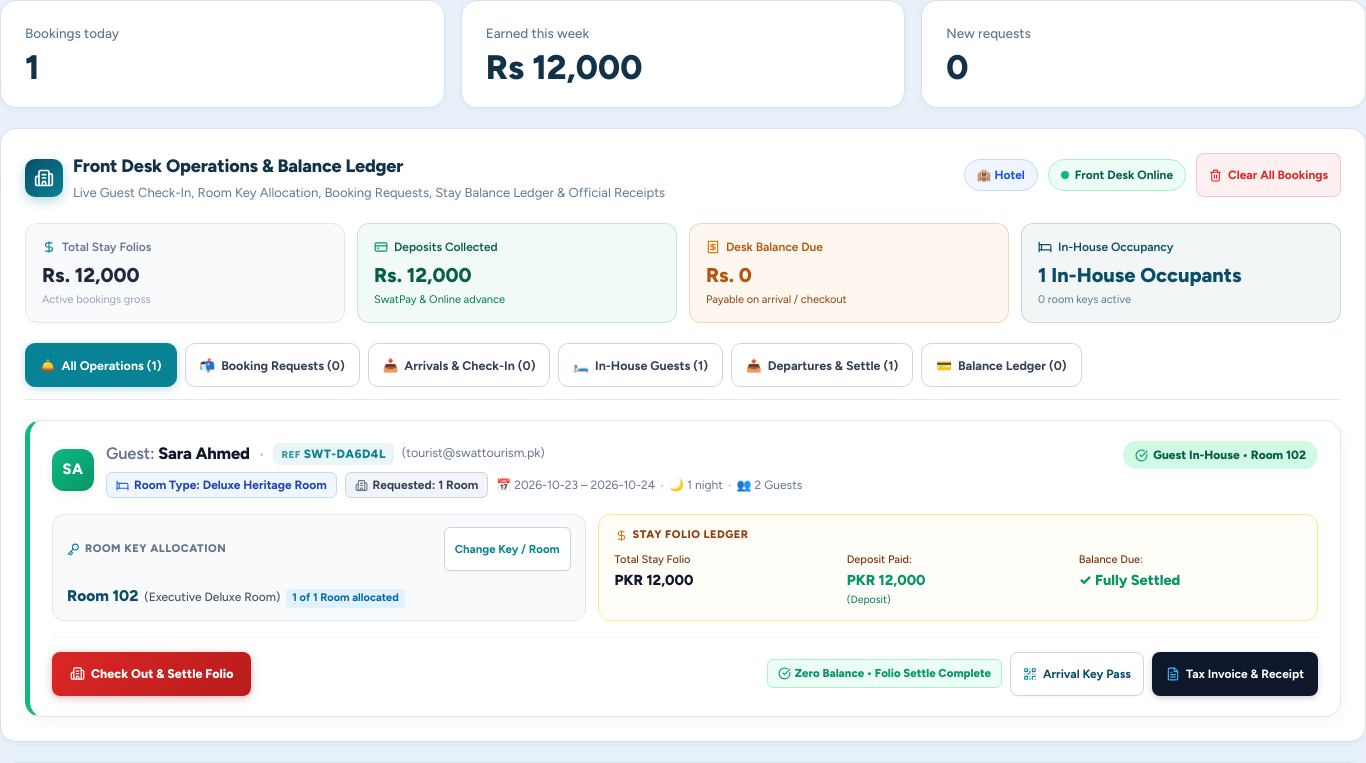
Test: SwatPay Checkout Modal & Hotel Stay Operations › correctly categorizes guest with allocated physical room and settled folio as In-House with visible Checkout button
This screenshot has width=1366, height=763.
Expected: the text "In-House Guests (1)" is shown, [595,358,708,373]
Expected: the text "Guest In-House • Room 102" is shown, [1153,446,1306,464]
# Clicking In-House Guests filter loads the guest and shows checkout button
Step 1. Click the button with test id "tab-front-desk-in_house" → (641, 365), box [558,343,723,387]
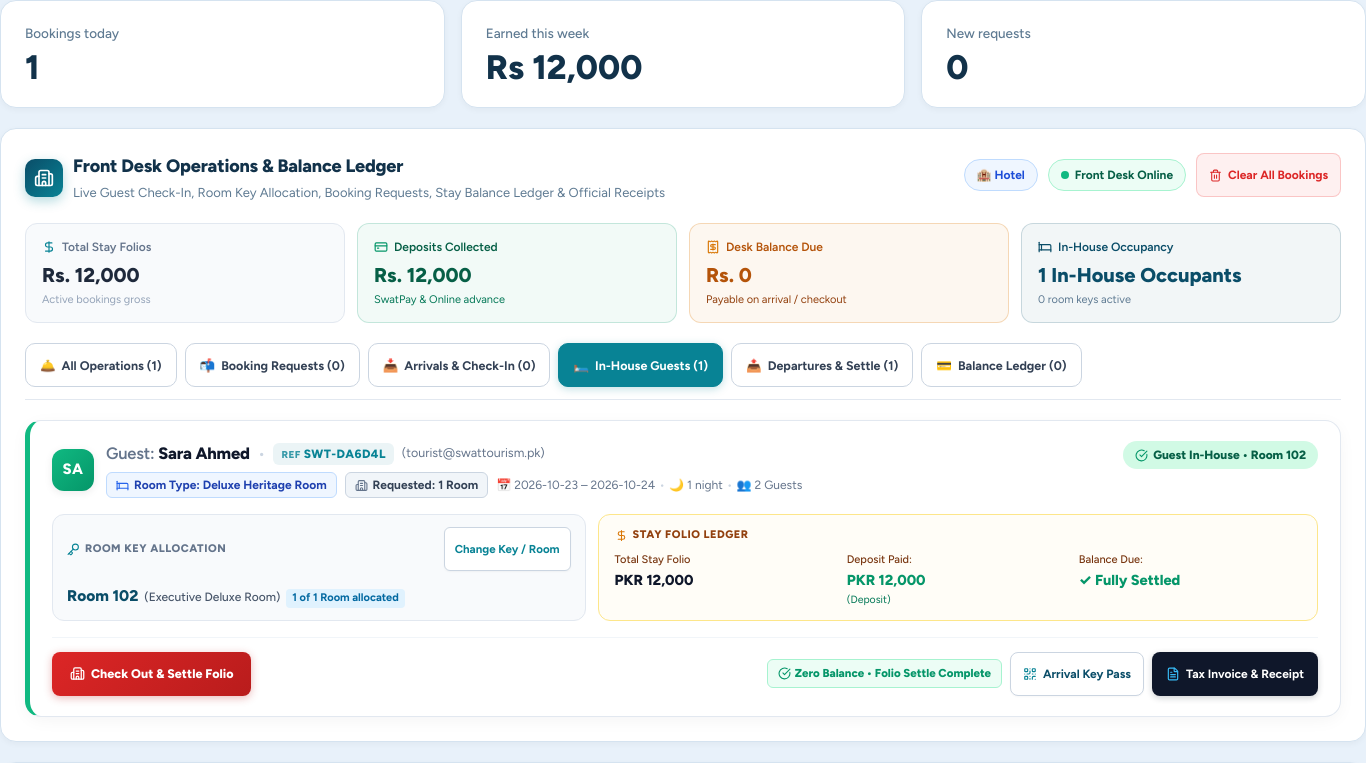
Expected: the text "Sara Ahmed" is shown, [158,443,250,463]
Expected: the text "Balance Ledger (0)" is shown, [958,358,1067,373]
# Click checkout and switch to All Operations
Step 2. Click the button with test id "btn-fd-checkout-SWT-DA6D4L" → (152, 674), box [52,652,251,696]
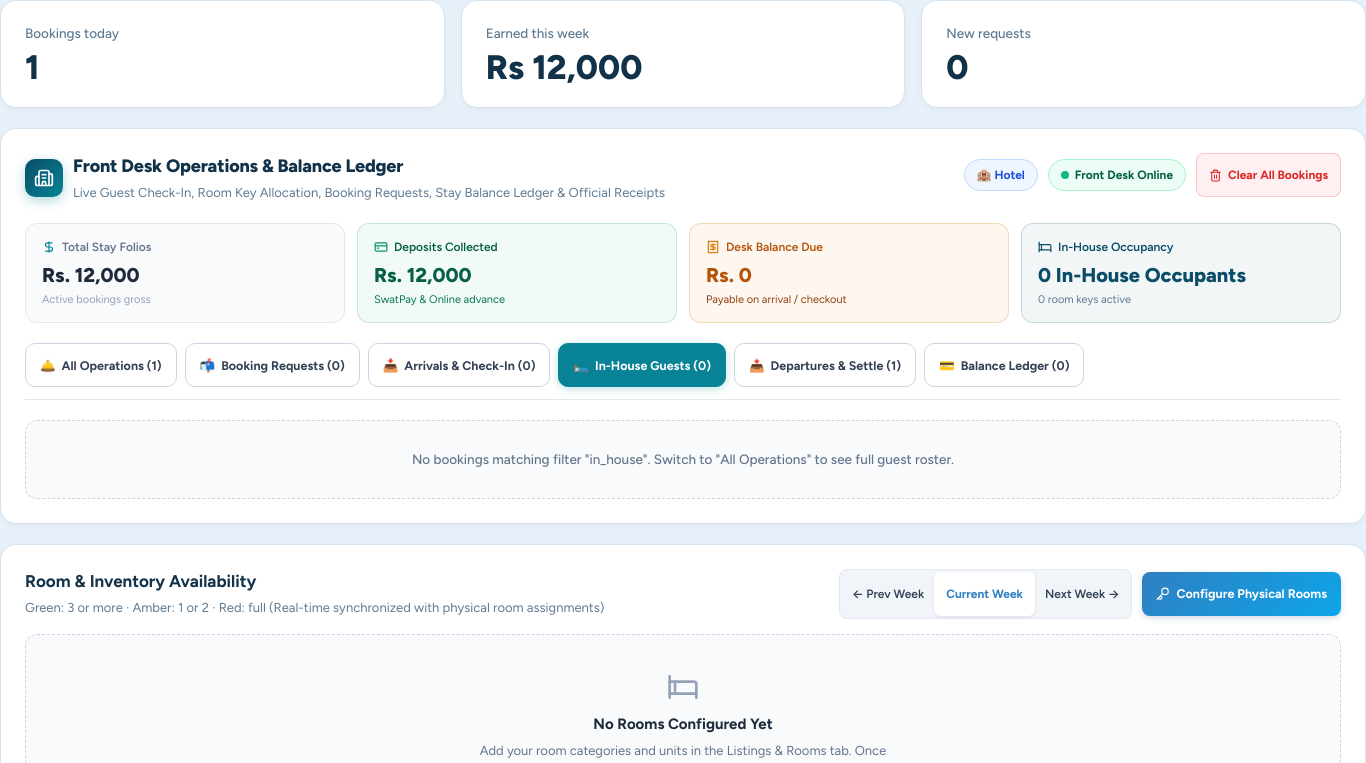
Step 3. Click the button with test id "tab-front-desk-all" → (101, 365), box [25,343,177,387]
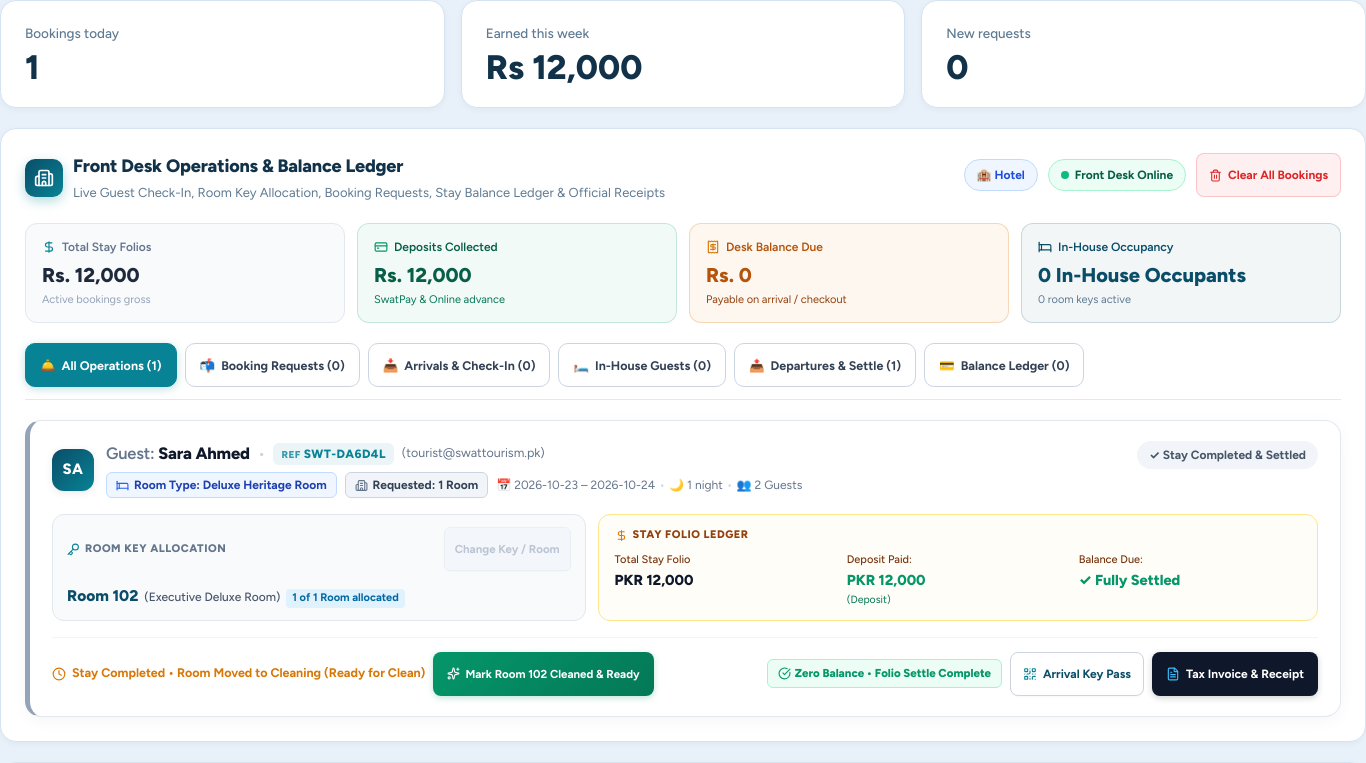
Expected: the text "Stay Completed • Room Moved to Cleaning (Ready for Clean)" is shown, [72,664,425,683]
Expected: the text "Mark Room 102 Cleaned & Ready" is shown, [465,667,640,681]
# Switching to Balance Ledger shows the all-settled empty state
Step 4. Click the button with test id "tab-front-desk-ledger" → (1004, 365), box [924,343,1084,387]
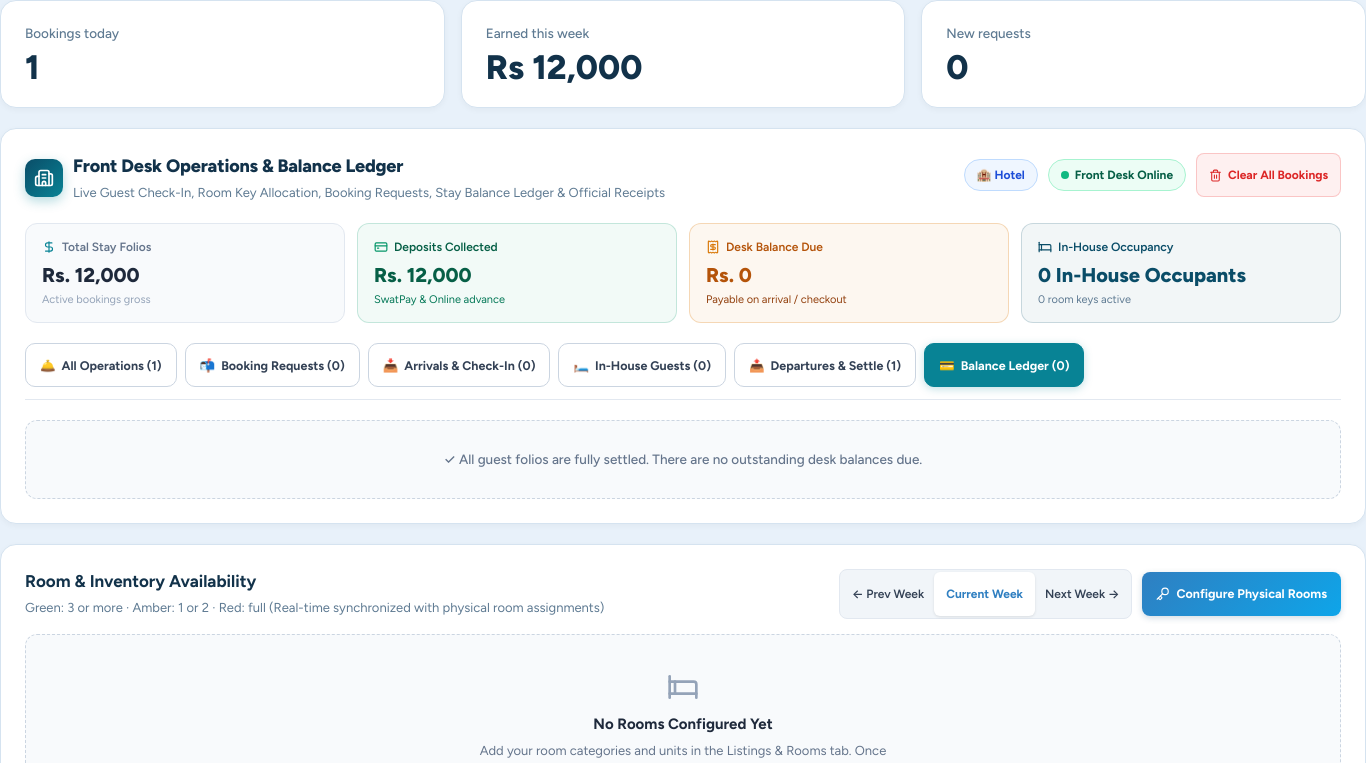
Expected: the text "All guest folios are fully settled" is shown, [444,451,922,467]
# Switch back to All tab to access the folio card
Step 5. Click the button with test id "tab-front-desk-all" → (101, 365), box [25,343,177,387]
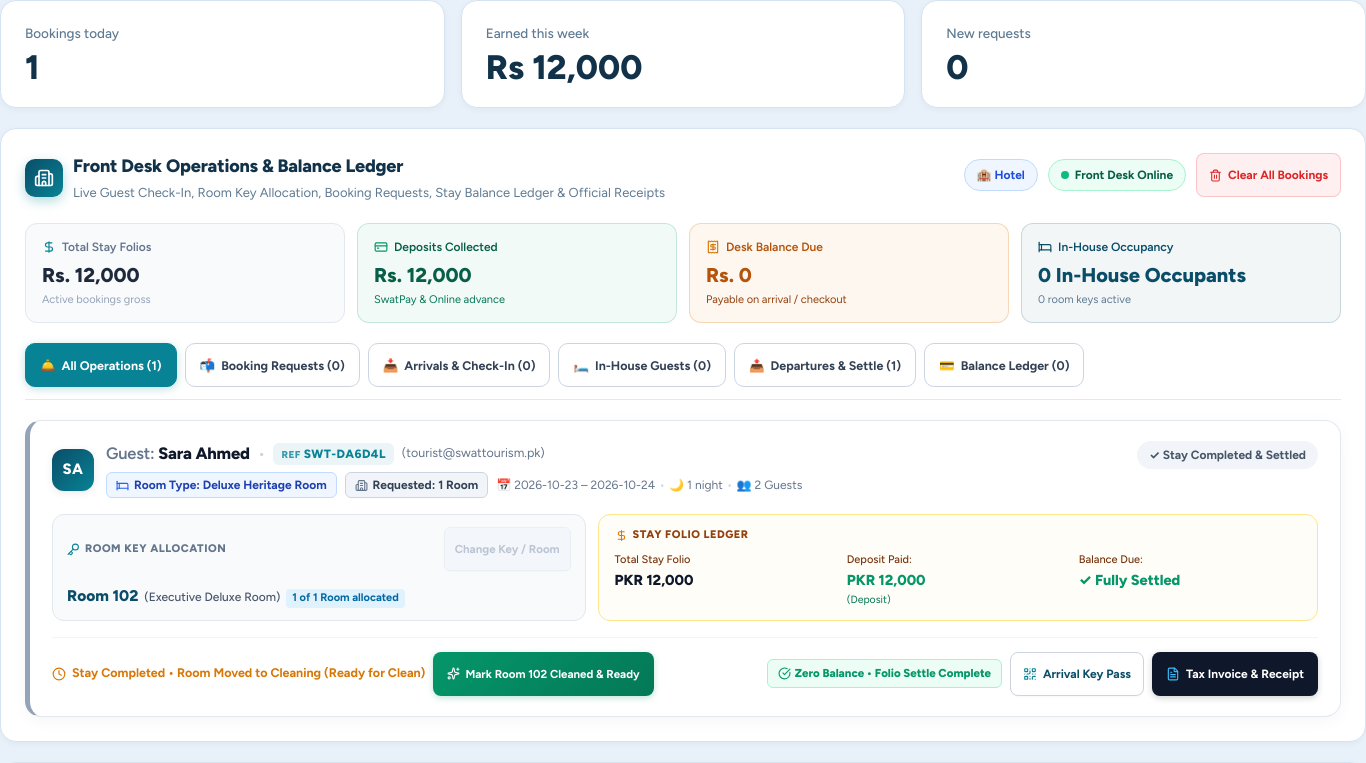
Step 6. Click the button "Mark Room 102 Cleaned & Ready" → (544, 674), box [433,652,654,696]
(page scrolled)
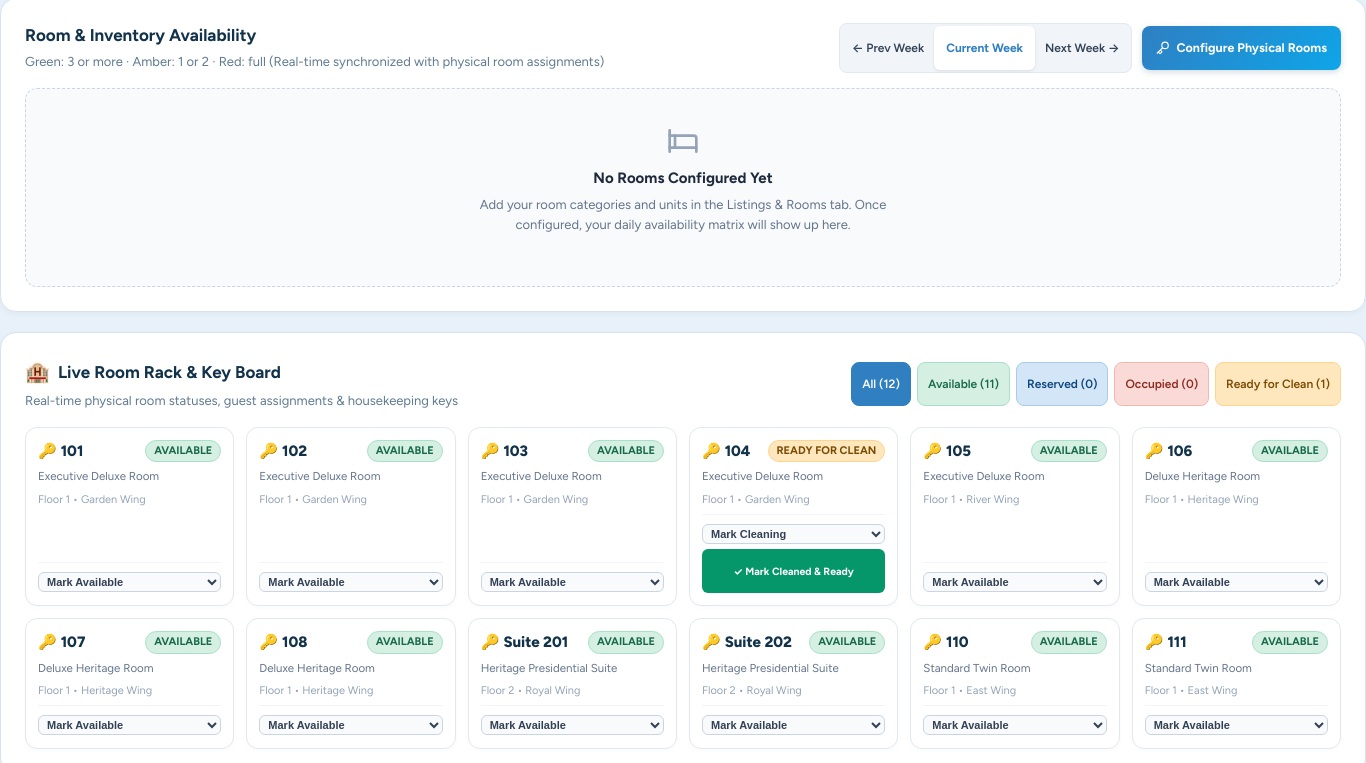
Expected: the button "Mark Room 102 Cleaned & Ready" is gone
Expected: the button "Ready for Clean (1)" is shown, [1215,362,1341,406]
